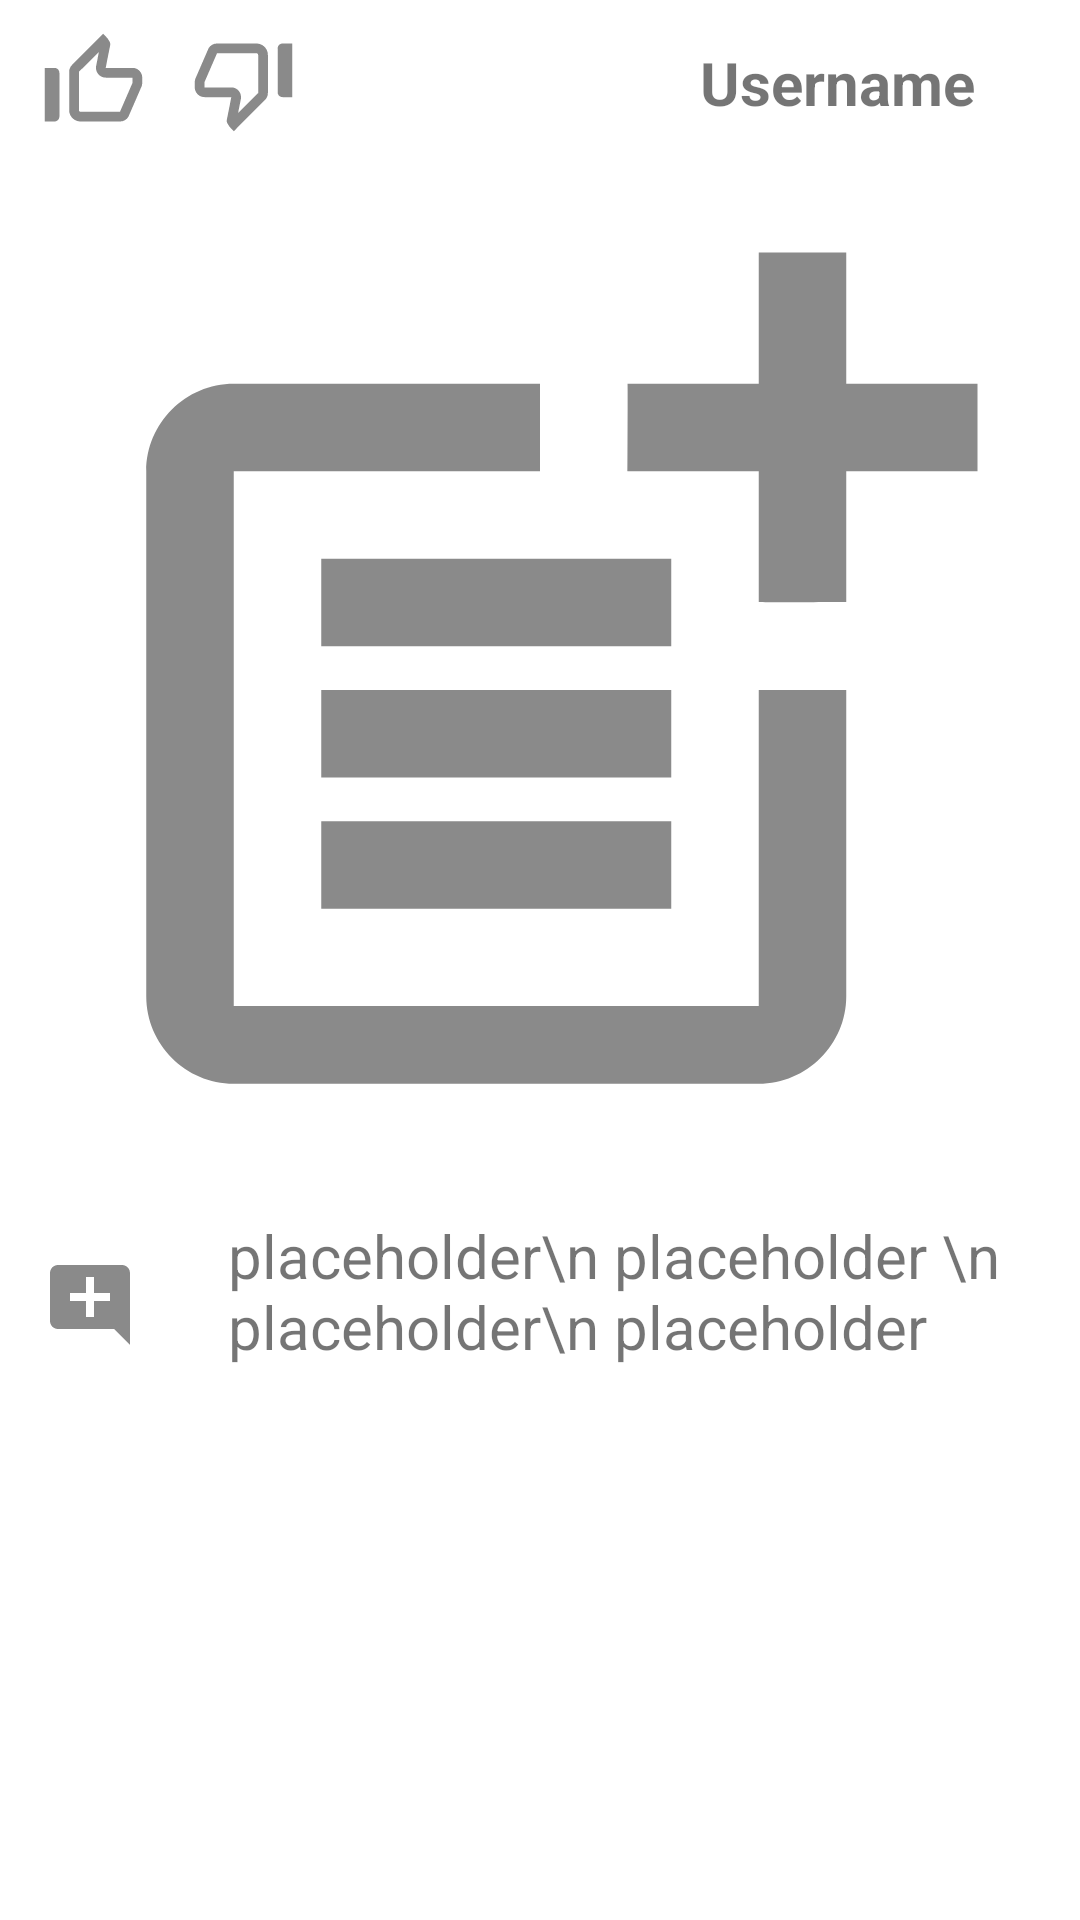

Where to tap for icons on this 1080px x 1920px app screen, as (x,y):
add comment: (90,1305)
thumb down off: (243,87)
thumb up off: (93,78)
